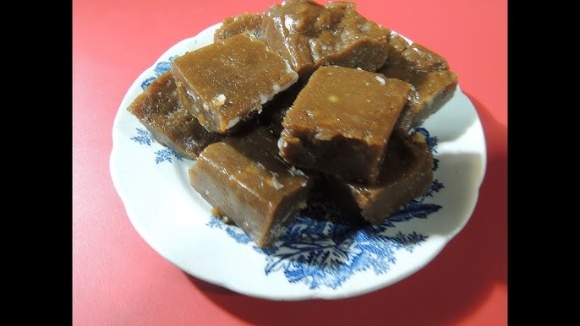dodol: (278, 63, 414, 186), (185, 128, 315, 249), (172, 31, 299, 133)
